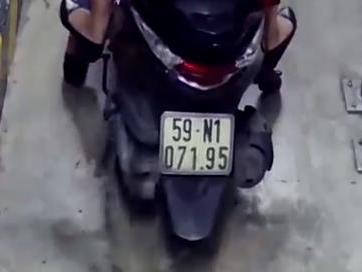num_plate: (159, 110, 234, 175)
